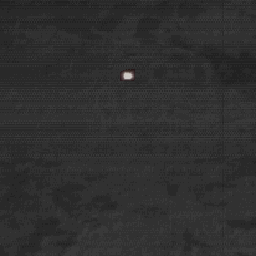Target: (121, 70, 135, 81)
